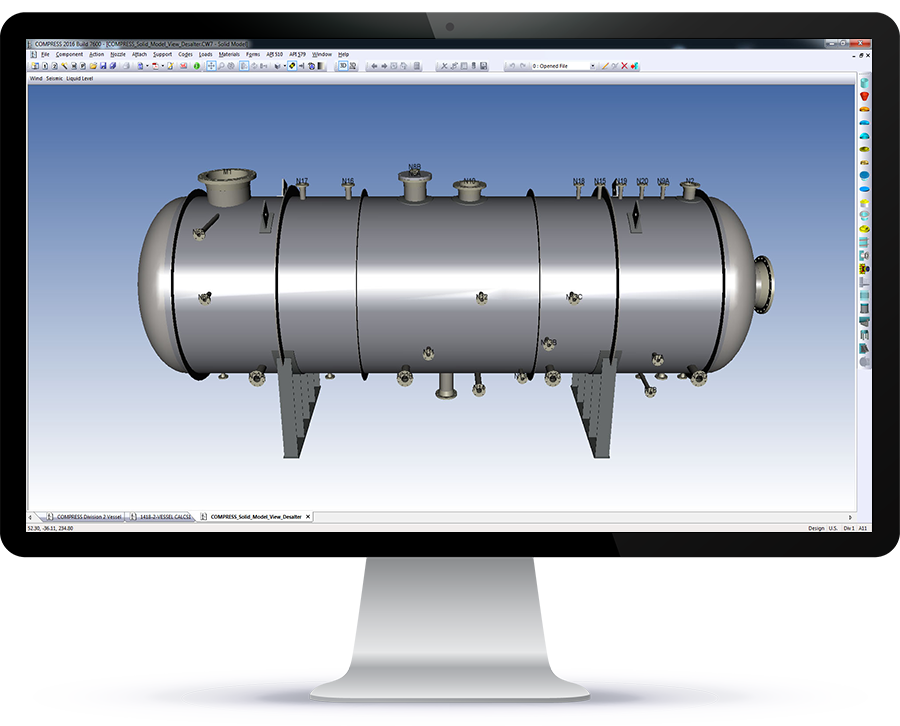nozzle: (385, 161, 439, 215), (455, 165, 489, 216)
